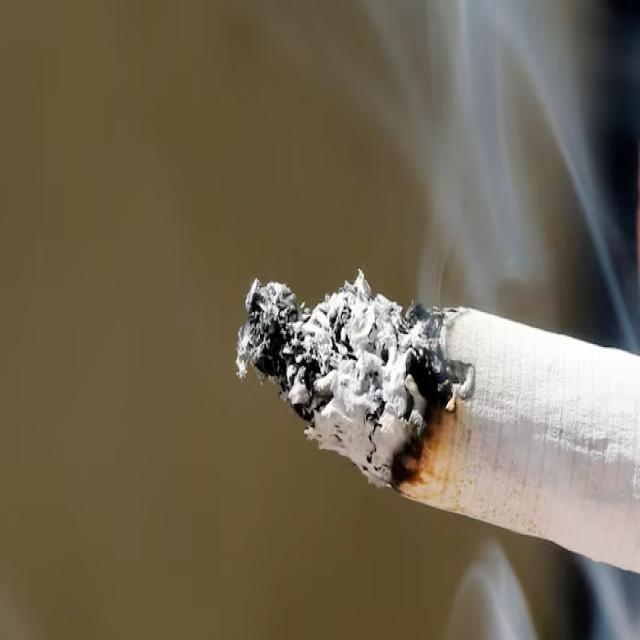Cigarette: (237, 274, 639, 572)
